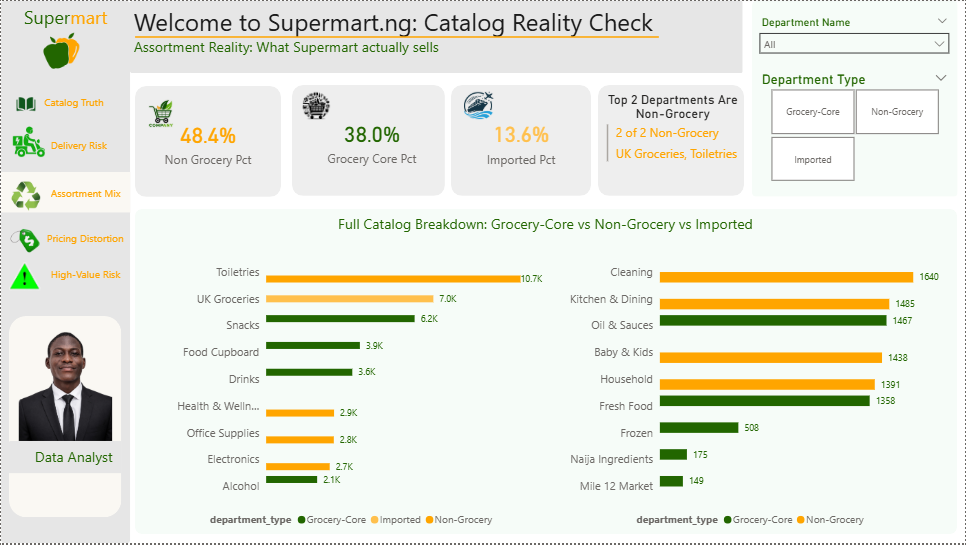

The page's visual inventory and layout, read from the dashboard file:
{"tool":"powerbi","page":{"name":"Assortment Mix","canvas":[1280,720],"ordinal":2},"visuals":[{"type":"shape","box":[0,0,171.8,720],"z":0},{"type":"actionButton","box":[0,121,171.8,50.8],"z":0,"group":"g4"},{"type":"slicer","fields":{"Values":["public dim_department.department_type"]},"box":[998.1,88.2,271.9,158.3],"z":1000,"group":"g5"},{"type":"shape","box":[178,112.9,193.9,147.5],"z":1000},{"type":"actionButton","box":[0,171.8,171.8,50.8],"z":1000,"group":"g4"},{"type":"shape","box":[171.8,0,814.1,95.6],"z":2000},{"type":"slicer","fields":{"Values":["public fact_products.department_name"]},"box":[998.1,14.9,271.9,64.2],"z":2000,"group":"g5"},{"type":"shape","box":[386.6,111.6,203.2,147.5],"z":3000},{"type":"actionButton","box":[0,294.3,171.8,50.8],"z":3000,"group":"g4"},{"type":"textbox","box":[171.8,0,814.1,95.6],"z":4000},{"type":"actionButton","box":[0,351,171.8,50.8],"z":4000,"group":"g4"},{"type":"shape","box":[597.8,111.6,186,147.5],"z":5000},{"type":"textbox","box":[0,0,171.8,50.8],"z":6000},{"type":"shape","box":[177.8,0,696.1,95.6],"z":7000},{"type":"shape","box":[178,276.3,1092,431.7],"z":8000},{"type":"card","fields":{"Values":["public dim_department.Non Grocery Pct"]},"box":[178,112.9,193.9,147.5],"z":9000},{"type":"card","fields":{"Values":["public dim_department.Grocery Core Pct"]},"box":[395.9,111.6,193.9,147.5],"z":10000},{"type":"card","fields":{"Values":["public dim_department.Imported Pct"]},"box":[597.8,116.9,186,138.2],"z":11000},{"type":"image","box":[14.9,164.3,44.8,48],"z":11000,"group":"g3"},{"type":"textbox","box":[44.8,121,127,34.4],"z":12000,"group":"g2"},{"type":"shape","box":[0,227.7,171.8,53.8],"z":12000,"group":"g3"},{"type":"clusteredBarChart","fields":{"Category":["public dim_department.department_name"],"Series":["public dim_department.department_type"],"Y":["Sum(public dim_department.category_page_count)"]},"box":[741.3,318.8,512.8,389.2],"z":12000},{"type":"group","id":"g1","title":"Group 2","box":[0,113.5,171.8,278],"z":13000},{"type":"textbox","box":[61.2,177.8,110.5,34.4],"z":13000,"group":"g2"},{"type":"image","box":[12,236,43.3,47.8],"z":13000,"group":"g3"},{"type":"group","id":"g2","title":"Group 4","box":[44.8,121,132.9,262.9],"z":14000},{"type":"textbox","box":[61.2,242,110.5,34.4],"z":14000,"group":"g2"},{"type":"image","box":[10.5,295.7,44,48],"z":14000,"group":"g3"},{"type":"group","id":"g3","title":"Group 3","box":[0,113.5,171.8,278],"z":14003,"group":"g1"},{"type":"group","id":"g4","title":"Group 5","box":[0,121,171.8,280.8],"z":15000},{"type":"textbox","box":[55.3,301.7,116.5,34.4],"z":15000,"group":"g2"},{"type":"shape","box":[997.8,0,273.4,259.9],"z":16000},{"type":"image","box":[10.5,343.5,44,48],"z":16000,"group":"g3"},{"type":"textbox","box":[61.2,349.5,116.5,34.4],"z":16000,"group":"g2"},{"type":"image","box":[10.5,113.5,44.8,48],"z":16500,"group":"g3"},{"type":"group","id":"g5","title":"Group 7","box":[998.1,14.9,271.9,231.6],"z":17000},{"type":"clusteredBarChart","fields":{"Category":["public dim_department.department_name"],"Series":["public dim_department.department_type"],"Y":["Sum(public dim_department.category_page_count)"]},"box":[211.2,318.8,512.8,389.2],"z":18000},{"type":"textbox","box":[246.9,277.2,952.4,42],"z":19000},{"type":"shape","box":[10.5,418.3,149.4,267.4],"z":19000,"group":"g6"},{"type":"group","id":"g6","title":"Group 6","box":[10.5,418.3,149.4,267.4],"z":20000},{"type":"shape","box":[10.5,584.1,149.4,43.3],"z":20000,"group":"g6"},{"type":"image","box":[37.3,31.4,86.6,64.2],"z":21000},{"type":"image","box":[10.5,418.3,149.4,165.8],"z":21000,"group":"g6"},{"type":"image","box":[178,120.9,69.1,57.1],"z":22000},{"type":"textbox","box":[32.9,587.1,127,38.8],"z":22000,"group":"g6"},{"type":"image","box":[386.6,114.2,63.8,50.5],"z":23000},{"type":"image","box":[615.1,116.9,38.5,42.5],"z":24000},{"type":"shape","box":[793.1,111.6,193.9,147.5],"z":25000},{"type":"multiRowCard","title":"Top 2 Departments Are Non-Grocery","fields":{"Values":["public dim_department.Top 2 Non Grocery Check","public dim_department.Top 2 Departments"]},"box":[799.7,121.1,185.8,133.5],"z":26000}]}

Visuals, with their boxes in screenshot pixels (x1, y1, x2, y2), scaled from the page's 1280x720 canvas onto the 966x545 screenshot:
shape: 0,0,130,544
actionButton: 0,92,130,130
slicer - public dim_department.department_type: 753,67,958,187
shape: 134,85,281,197
actionButton: 0,130,130,168
shape: 130,0,744,72
slicer - public fact_products.department_name: 753,11,958,60
shape: 292,84,445,196
actionButton: 0,223,130,261
textbox: 130,0,744,72
actionButton: 0,266,130,304
shape: 451,84,592,196
textbox: 0,0,130,38
shape: 134,0,660,72
shape: 134,209,958,536
card - public dim_department.Non Grocery Pct: 134,85,281,197
card - public dim_department.Grocery Core Pct: 299,84,445,196
card - public dim_department.Imported Pct: 451,88,592,193
image: 11,124,45,161
textbox: 34,92,130,118
shape: 0,172,130,213
clusteredBarChart - public dim_department.department_name x public dim_department.department_type: 559,241,946,536
"Group 2" group: 0,86,130,296
textbox: 46,135,130,161
image: 9,179,42,215
"Group 4" group: 34,92,134,291
textbox: 46,183,130,209
image: 8,224,41,260
"Group 3" group: 0,86,130,296
"Group 5" group: 0,92,130,304
textbox: 42,228,130,254
shape: 753,0,959,197
image: 8,260,41,296
textbox: 46,265,134,291
image: 8,86,42,122
"Group 7" group: 753,11,958,187
clusteredBarChart - public dim_department.department_name x public dim_department.department_type: 159,241,546,536
textbox: 186,210,905,242
shape: 8,317,121,519
"Group 6" group: 8,317,121,519
shape: 8,442,121,475
image: 28,24,94,72
image: 8,317,121,442
image: 134,92,186,135
textbox: 25,444,121,474
image: 292,86,340,125
image: 464,88,493,121
shape: 599,84,745,196
"Top 2 Departments Are Non-Grocery" multiRowCard: 604,92,744,193
